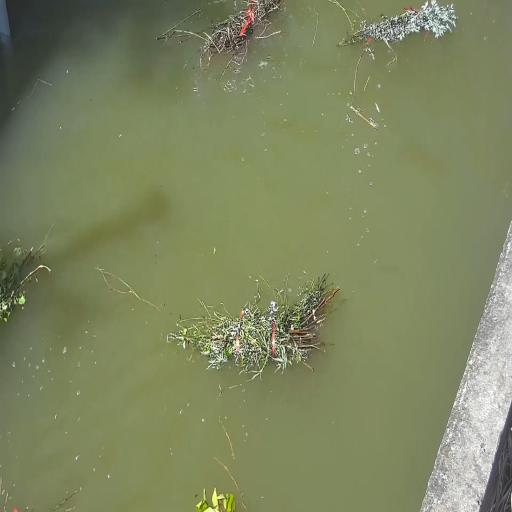twig: (183, 274, 329, 371), (341, 0, 457, 57), (198, 0, 289, 71), (0, 234, 48, 324), (194, 465, 246, 512)
